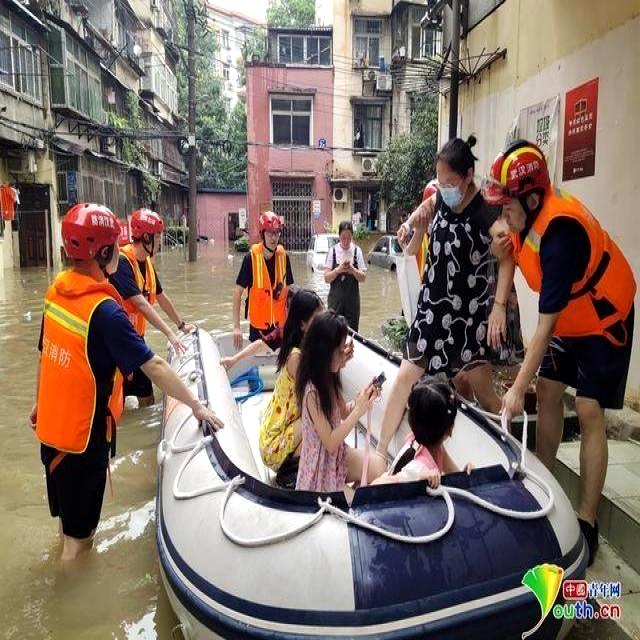civilian: (396, 136, 508, 429), (254, 282, 334, 497), (304, 316, 378, 504), (380, 371, 465, 489), (322, 220, 369, 329)
rescuer: (14, 191, 212, 577), (480, 135, 640, 574), (114, 191, 196, 422), (230, 197, 299, 355), (407, 166, 441, 286)
